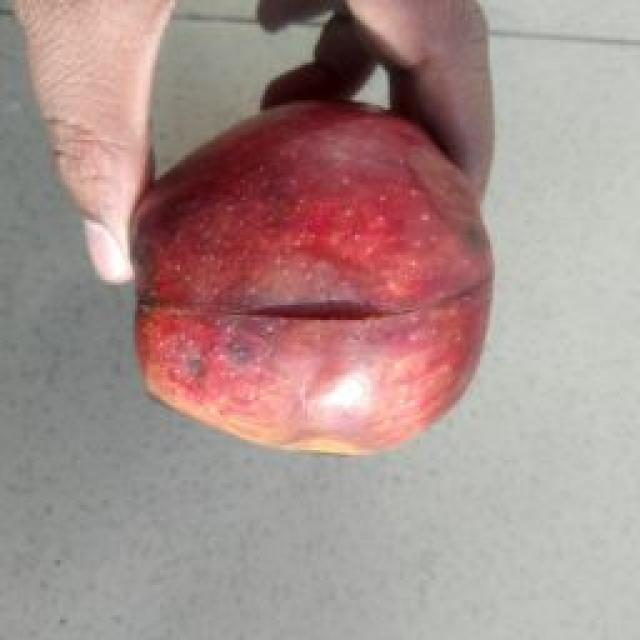Bad_Apple: (132, 104, 490, 453)
